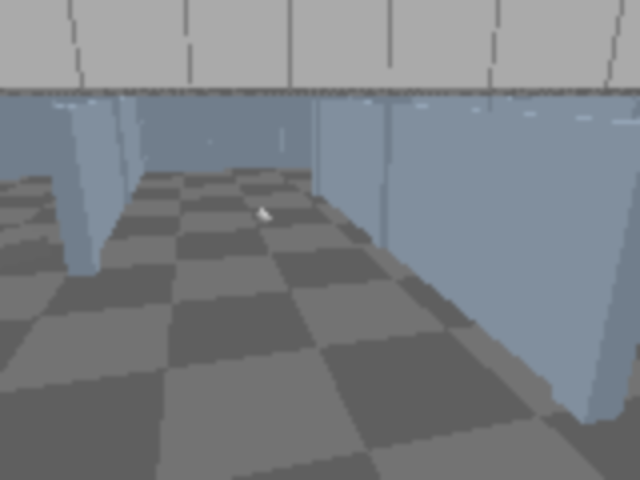obstacle: (0, 226, 51, 267)
puck: (251, 207, 273, 228)
